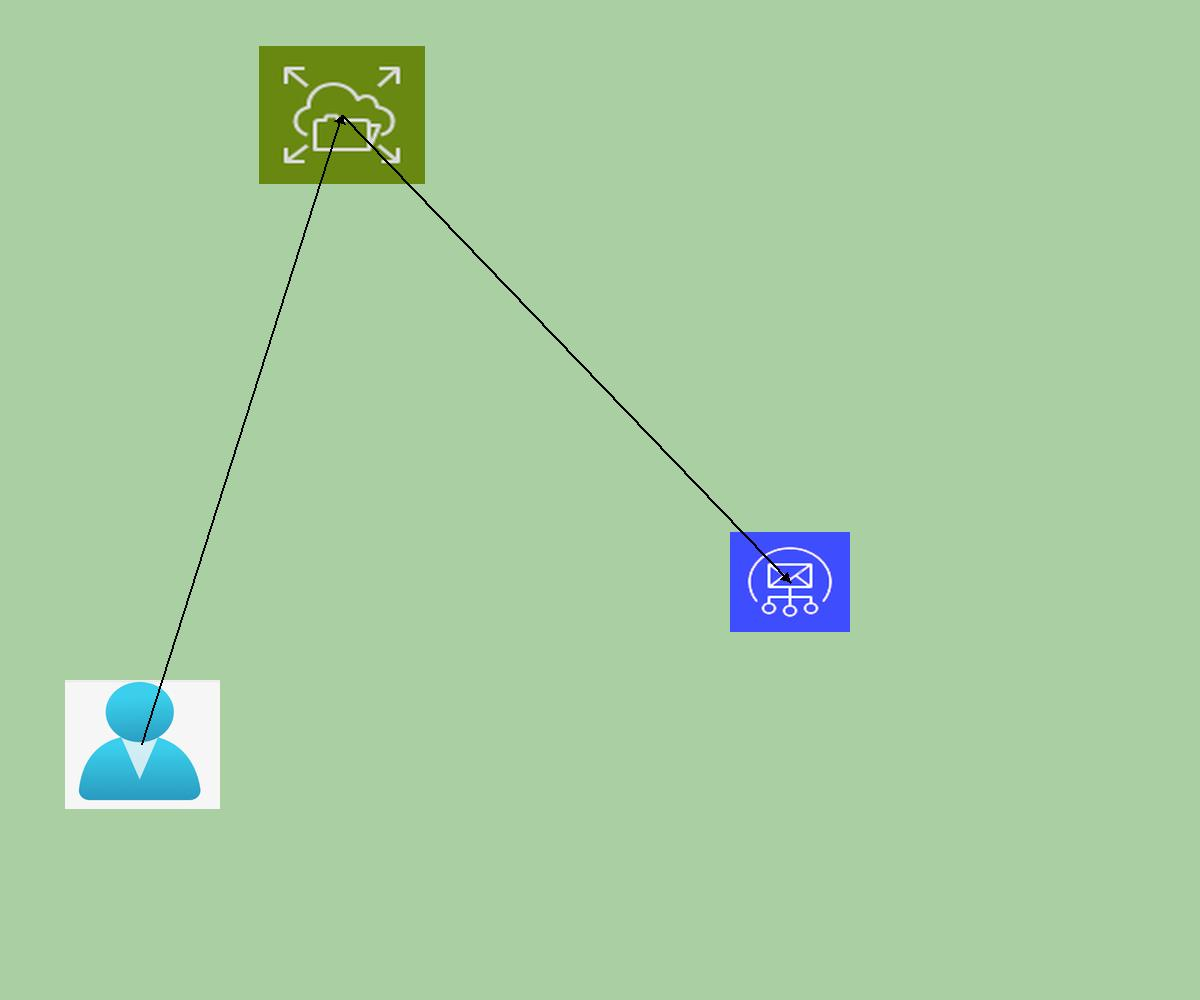AWS-EFS: (259, 46, 425, 184)
AWS-Simple-Email-Service: (730, 532, 850, 632)
Azure_users: (65, 680, 220, 809)
